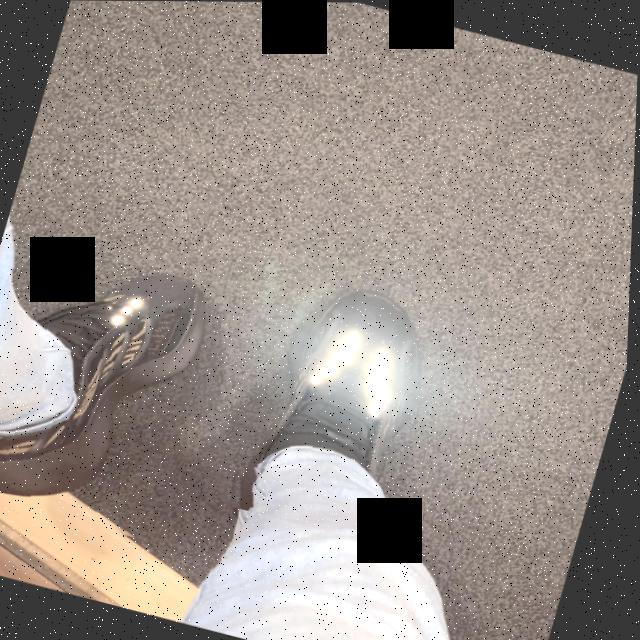shoe: (0, 235, 235, 549), (222, 261, 450, 544)
